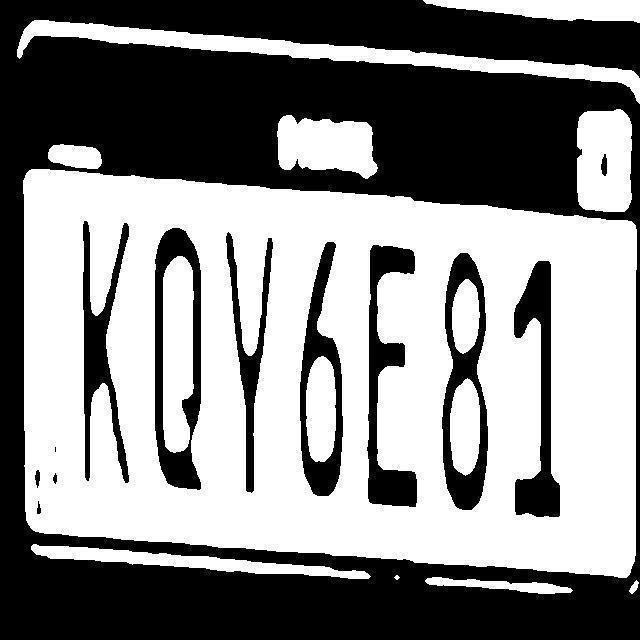1: (506, 236, 574, 539)
6: (301, 229, 356, 498)
8: (438, 252, 499, 513)
e: (360, 234, 438, 512)
k: (64, 209, 138, 497)
q: (138, 218, 222, 507)
y: (220, 215, 288, 500)
